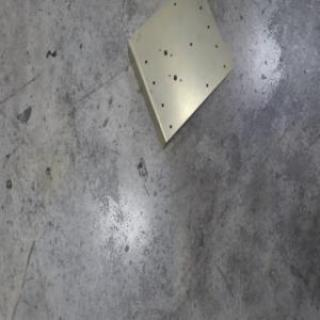MetalSheettrack_idkeyframe: (124, 0, 233, 151)
